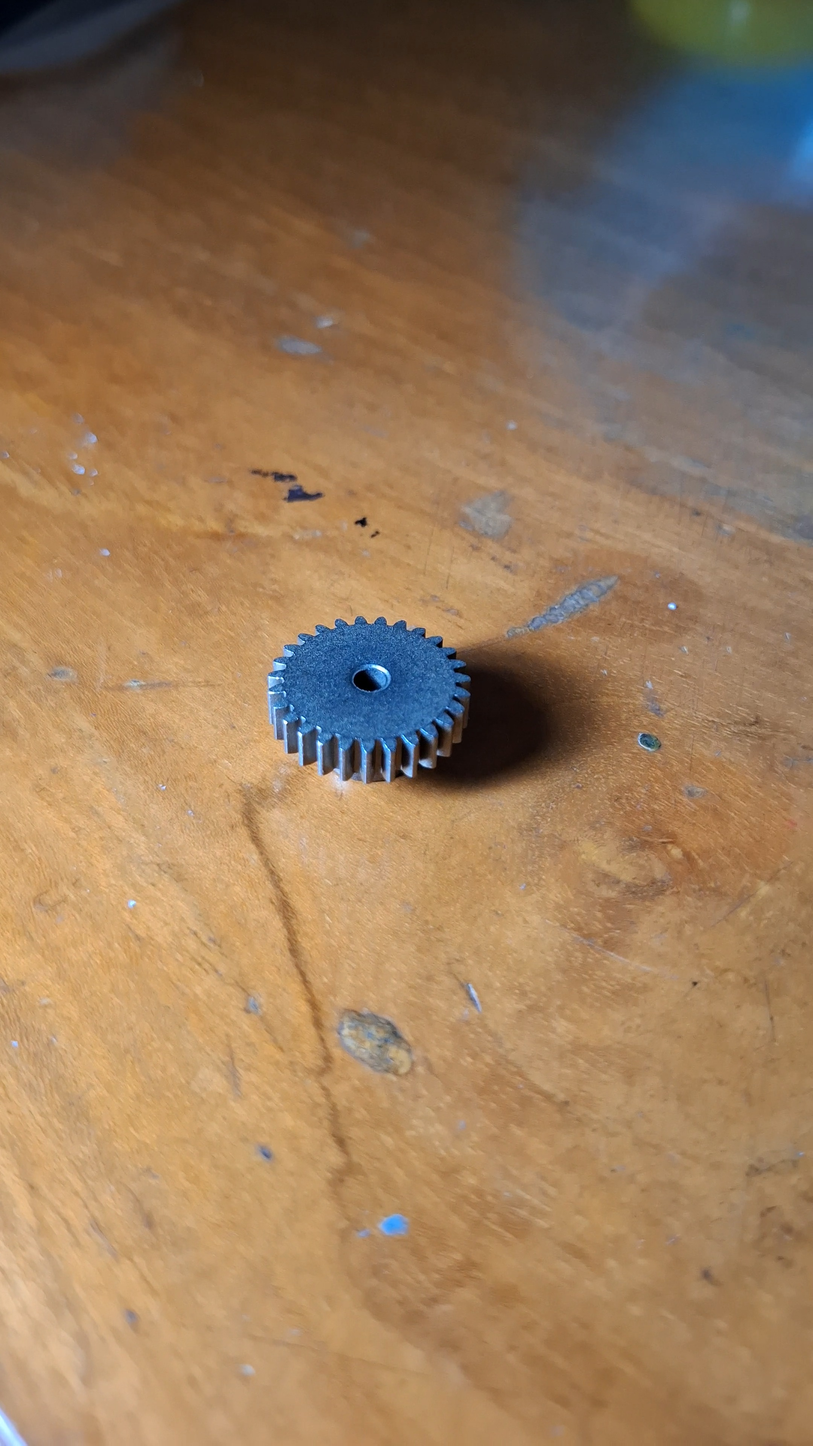spur gear: (269, 618, 470, 782)
